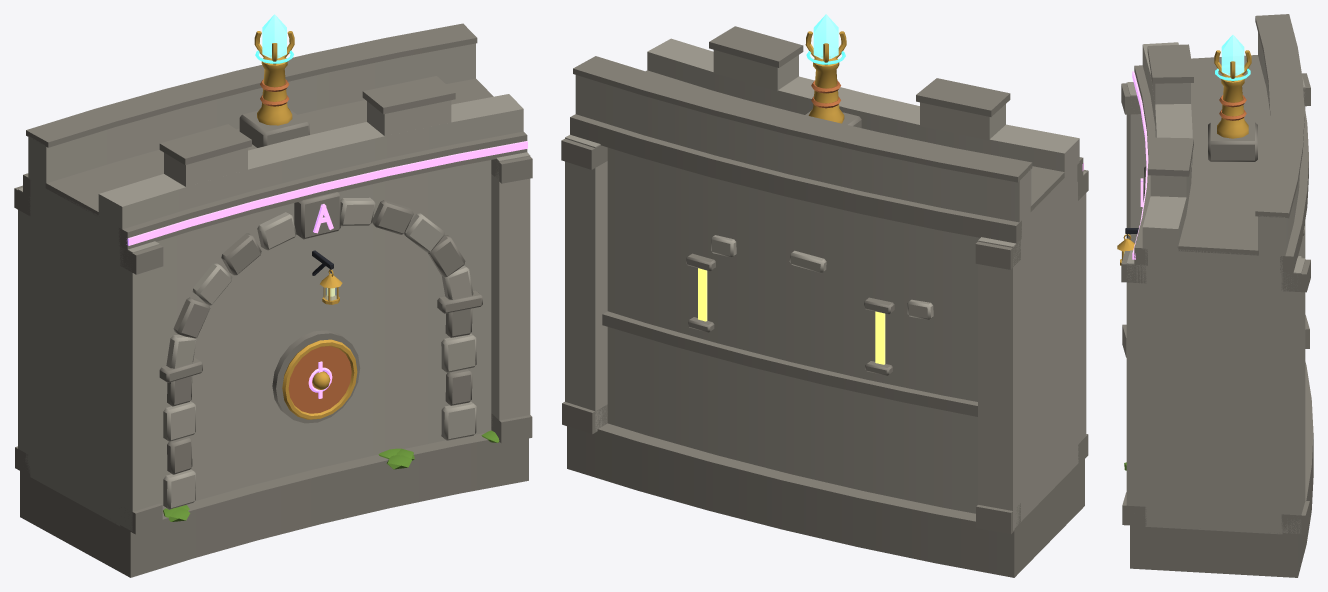
Rendered from bld_arena_wall.glb.
3 renders of one model, left to right at view 1: azimuth 30°, elevation 25°; view 2: azimuth 150°, elevation 25°; view 3: azimuth 270°, elevation 25°, orthographic. The views are drawn at different scales.
Parts seen in each view (by area): view 1: ArenaWall; view 2: ArenaWall; view 3: ArenaWall.
Boxes of the visible parts, left/top/right/bottom form: ArenaWall: left=14, top=14, right=532, bottom=577; ArenaWall: left=561, top=14, right=1088, bottom=577; ArenaWall: left=1117, top=14, right=1313, bottom=577.
Size of what is drawn, in the model's own units: 8.6 by 8.84 by 3.54.
